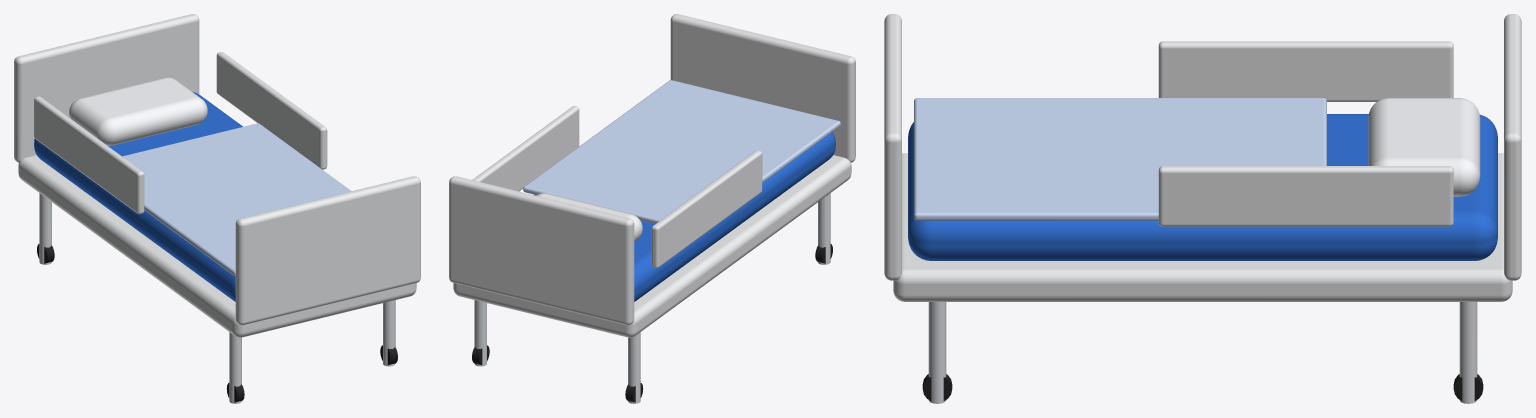
File: hospital_bed.glb
3 renders of one model, left to right at view 1: azimuth 30°, elevation 25°; view 2: azimuth 150°, elevation 25°; view 3: azimuth 270°, elevation 25°, orthographic. The views are drawn at different scales.
Visible parts, largest first — view 1: HospitalBed; view 2: HospitalBed; view 3: HospitalBed.
Boxes of the visible parts, bbox=[...] form: HospitalBed: bbox=[14, 14, 420, 403]; HospitalBed: bbox=[449, 14, 855, 403]; HospitalBed: bbox=[884, 14, 1521, 403].
Size of the model in its own units: 1.04 by 1.03 by 2.16.
